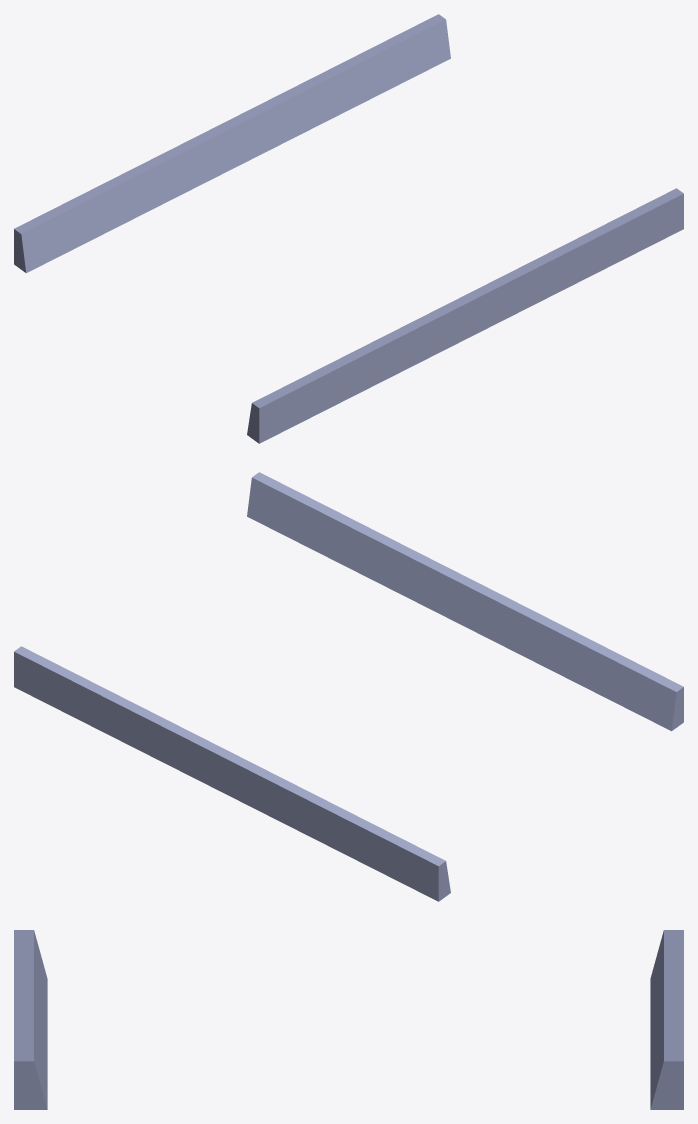
The model's file is road-slant-barrier.fbx.
The picture shows the model from 3 angles, top to bottom: view 1: azimuth 30°, elevation 25°; view 2: azimuth 150°, elevation 25°; view 3: azimuth 270°, elevation 25°; orthographic projection. The views are drawn at different scales.
Visible parts, largest first — view 1: road-slant-barrier; view 2: road-slant-barrier; view 3: road-slant-barrier.
Part boxes in pixels (box(x1,y1,x2,y2)): road-slant-barrier: box(14, 14, 683, 443); road-slant-barrier: box(14, 472, 683, 901); road-slant-barrier: box(14, 930, 683, 1109).
Bounding box in the file's own units: 100 × 33 × 100.
